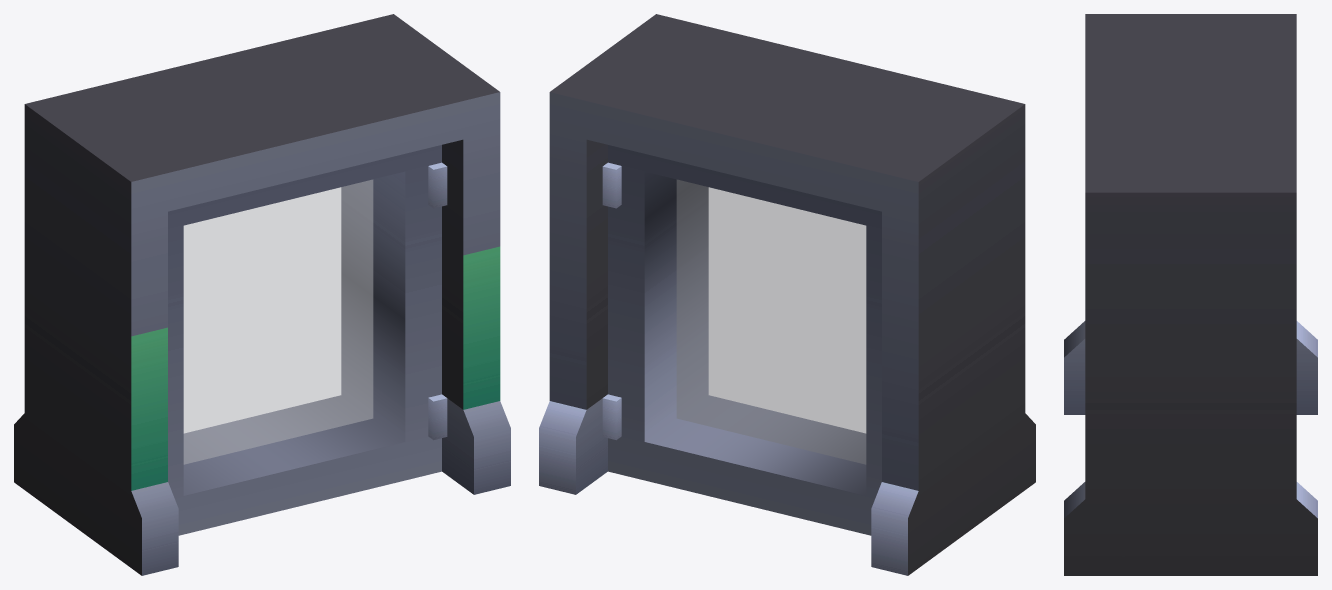
Rendered from wall-window.glb.
3 views of the same model, side by side, from view 1: azimuth 30°, elevation 25°; view 2: azimuth 150°, elevation 25°; view 3: azimuth 270°, elevation 25° (orthographic).
Parts seen in each view (by area): view 1: wall-window, (%ignore); view 2: wall-window, (%ignore); view 3: wall-window.
Part boxes in pixels (left/top/right/bottom): wall-window: left=14, top=14, right=510, bottom=575; (%ignore): left=183, top=179, right=373, bottom=464; wall-window: left=539, top=14, right=1035, bottom=575; (%ignore): left=676, top=179, right=866, bottom=464; wall-window: left=1064, top=14, right=1317, bottom=575.
Size of the model in its own units: 1 by 1 by 0.6001.
2 materials, 1 textured.
